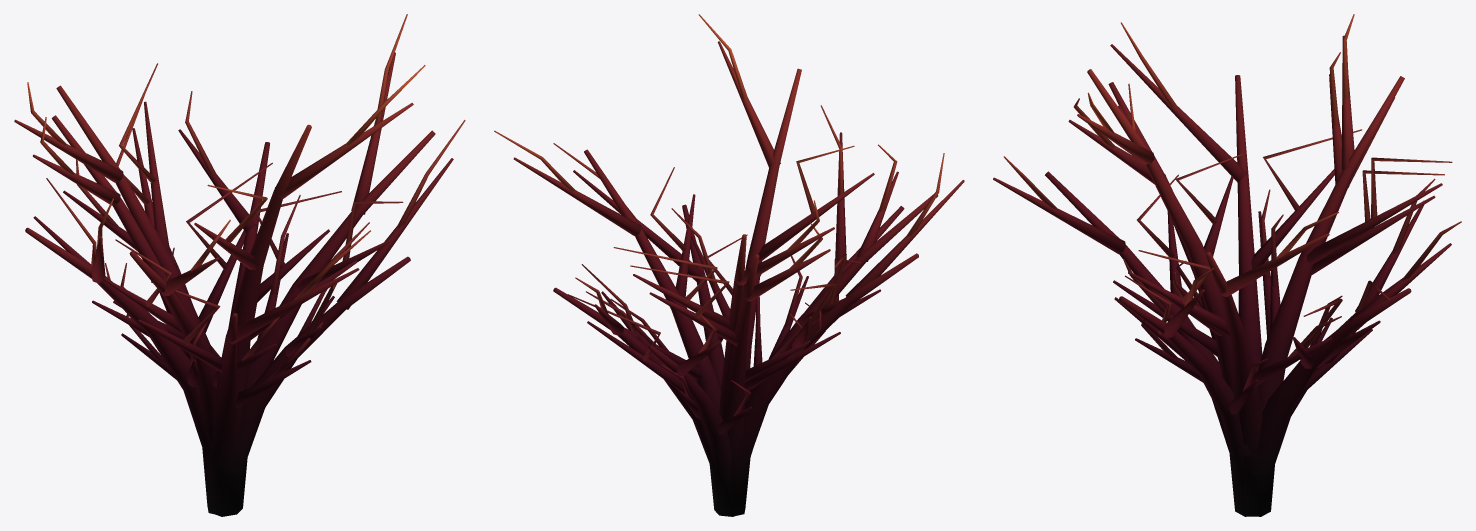
The model's file is SM_Alien_Coral_02.fbx.
3 renders of one model, left to right at view 1: azimuth 30°, elevation 25°; view 2: azimuth 150°, elevation 25°; view 3: azimuth 270°, elevation 25°, orthographic. The views are drawn at different scales.
Parts seen in each view (by area): view 1: SM_Alien_Coral_02; view 2: SM_Alien_Coral_02; view 3: SM_Alien_Coral_02.
Part boxes in pixels (<box>): SM_Alien_Coral_02: <box>14,14,465,516</box>; SM_Alien_Coral_02: <box>494,14,964,516</box>; SM_Alien_Coral_02: <box>993,14,1461,516</box>.
Size of the model in its own units: 148 by 139 by 155.
